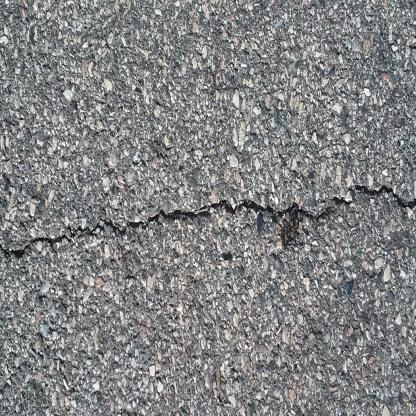Cracks: (0, 185, 416, 260)
